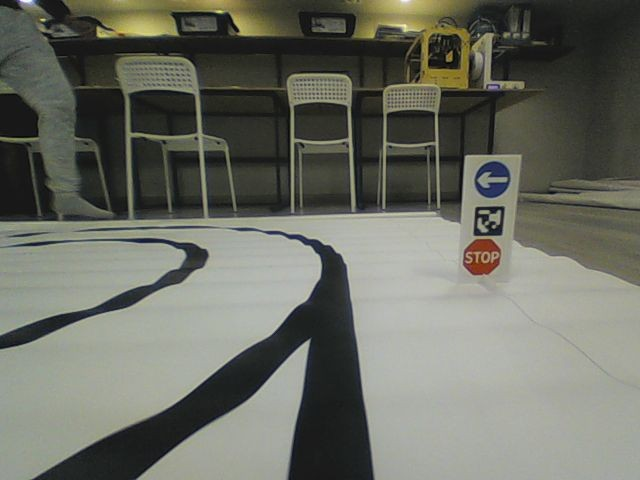Stop: (462, 237, 502, 277)
